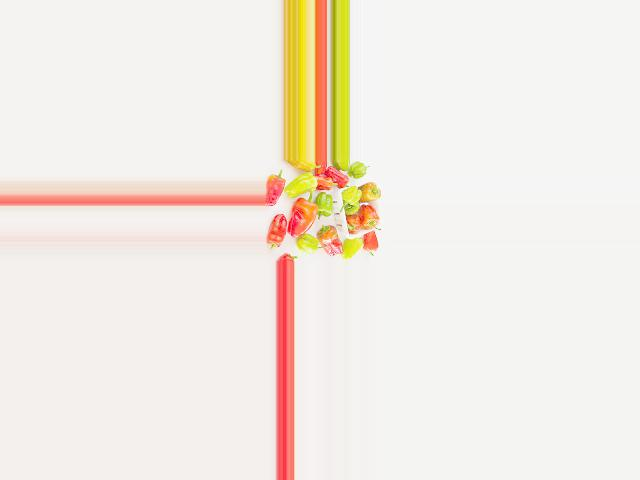bell_pepper: (265, 168, 288, 201)
